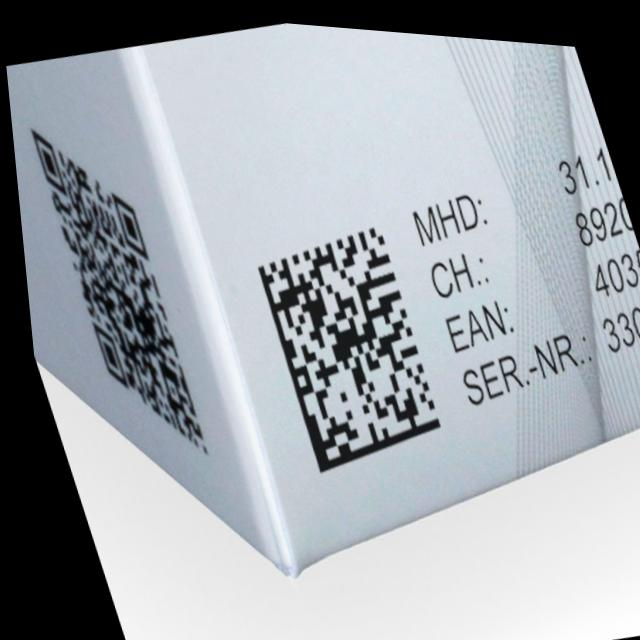datamatrix: (230, 199, 452, 481)
